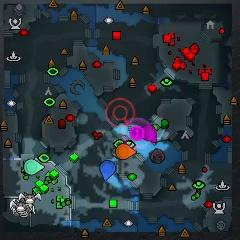Other: (131, 126, 145, 140)
p1: (100, 160, 115, 181)
p2: (23, 159, 45, 175)
p3: (143, 125, 157, 143)
p5: (116, 144, 136, 160)
